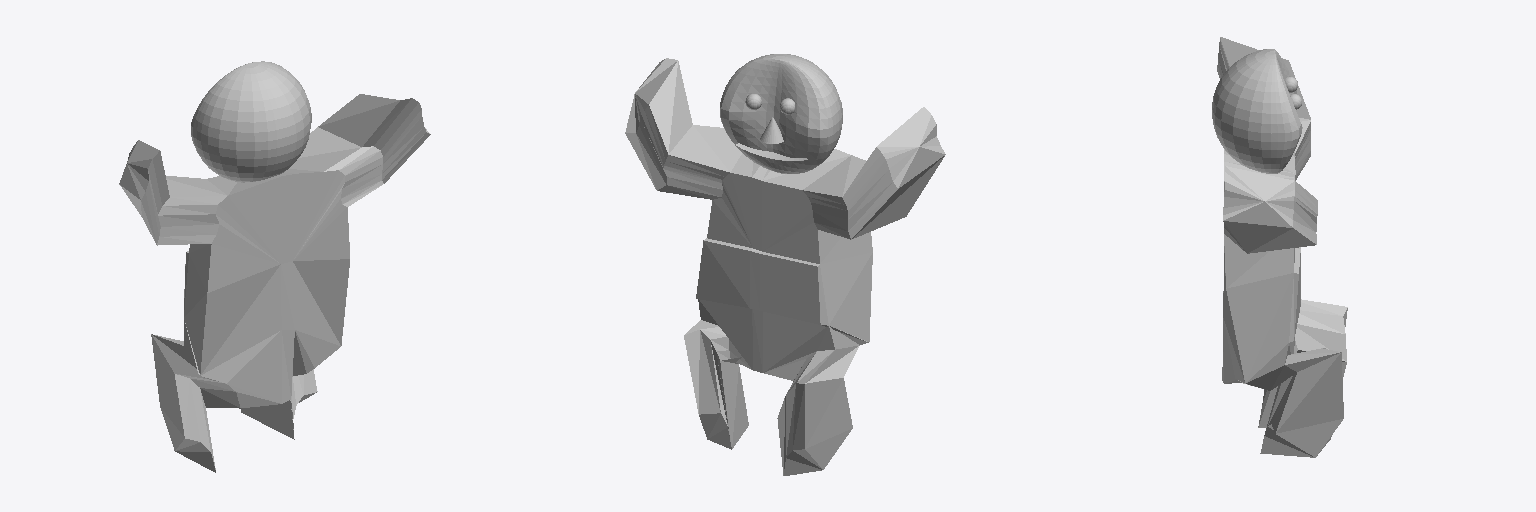
The model's file is manjump_000009.obj.
3 renders of one model, left to right at view 1: azimuth 30°, elevation 25°; view 2: azimuth 150°, elevation 25°; view 3: azimuth 270°, elevation 25°, orthographic.
Parts seen in each view (by area): view 1: Cube; view 2: Cube; view 3: Cube.
Part boxes in pixels (bbox=[...]): Cube: bbox=[119, 61, 430, 472]; Cube: bbox=[625, 54, 945, 475]; Cube: bbox=[1212, 37, 1347, 457].
Bounding box in the file's own units: 88.83 × 114 × 35.73.